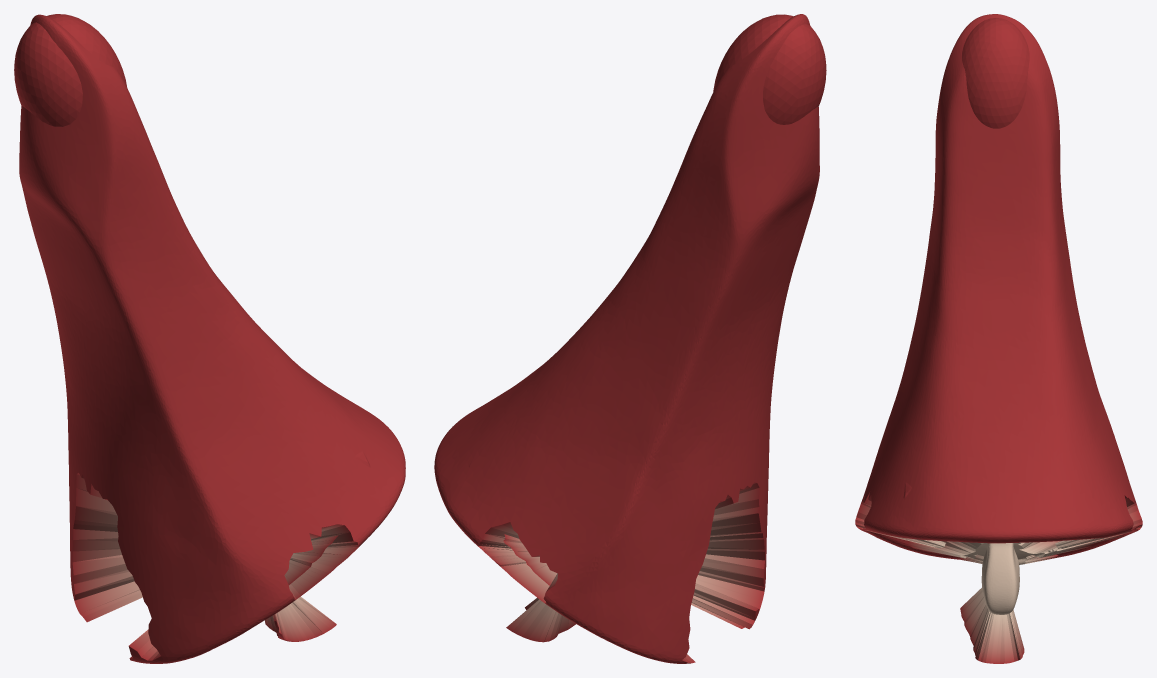
The model's file is arm_L.glb.
The picture shows the model from 3 angles, left to right: view 1: azimuth 30°, elevation 25°; view 2: azimuth 150°, elevation 25°; view 3: azimuth 270°, elevation 25°; orthographic projection. The views are drawn at different scales.
Parts seen in each view (by area): view 1: geometry_0; view 2: geometry_0; view 3: geometry_0.
Part boxes in pixels (x1=…): geometry_0: x1=14, y1=14, x2=405, y2=663; geometry_0: x1=434, y1=14, x2=826, y2=663; geometry_0: x1=855, y1=14, x2=1142, y2=663.
Size of the model in its own units: 0.3745 by 0.6732 by 0.3213.
